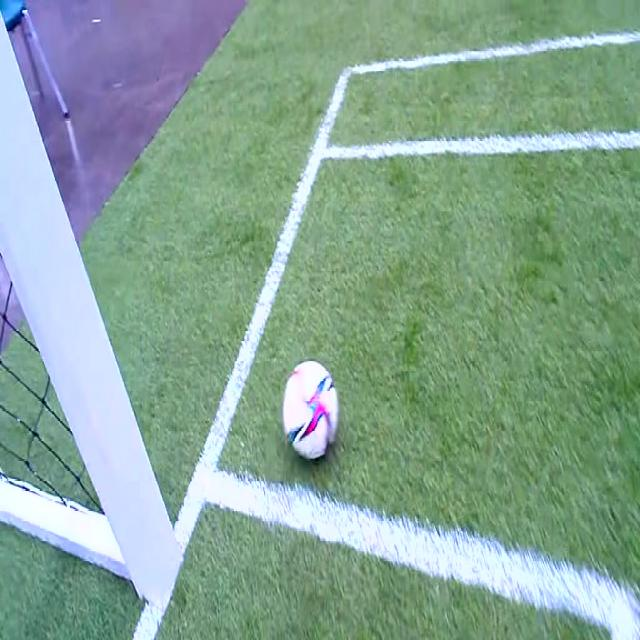ball: (284, 362, 338, 458)
